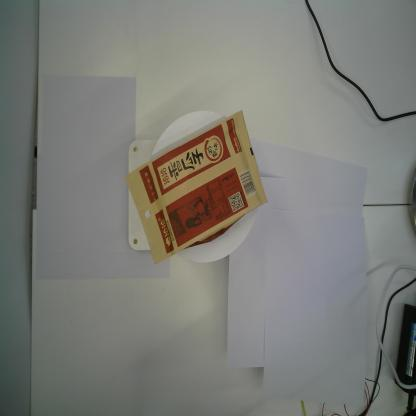Dried Food: (125, 110, 268, 266)
